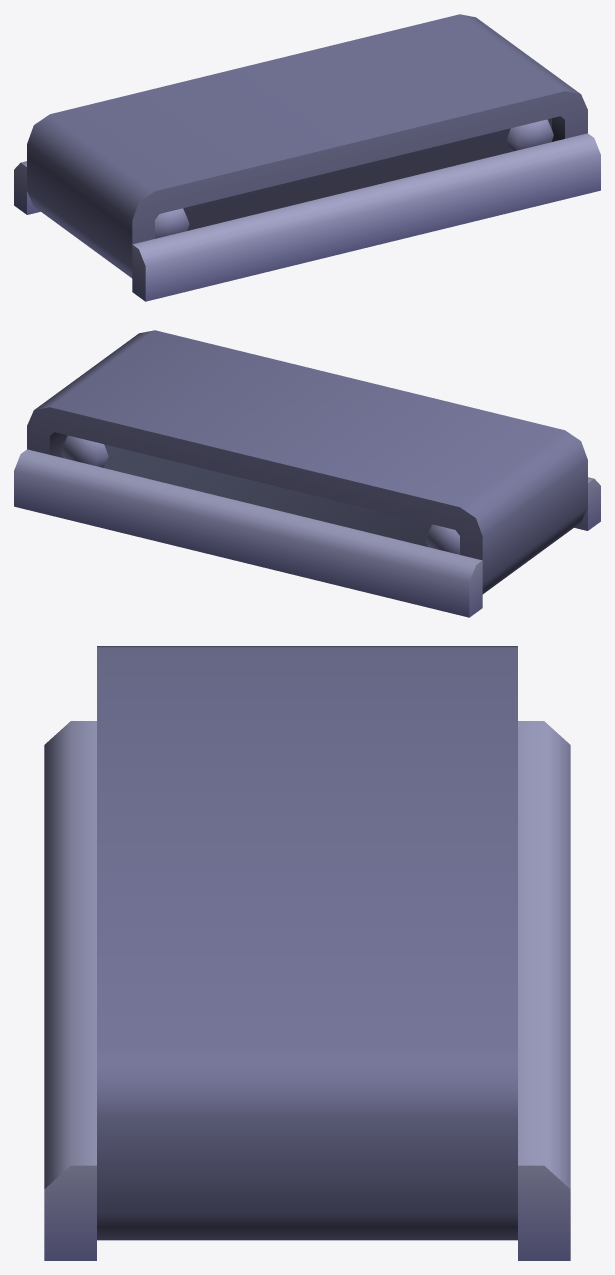
Rendered from kenney-factory-conveyor-long-sides.glb.
3 renders of one model, top to bottom at view 1: azimuth 30°, elevation 25°; view 2: azimuth 150°, elevation 25°; view 3: azimuth 270°, elevation 25°, orthographic. The views are drawn at different scales.
Parts seen in each view (by area): view 1: conveyor-long-sides; view 2: conveyor-long-sides; view 3: conveyor-long-sides.
Boxes of the visible parts, x1,y1,x2,y2 form: conveyor-long-sides: [14, 14, 600, 301]; conveyor-long-sides: [14, 330, 600, 617]; conveyor-long-sides: [44, 646, 570, 1260].
Size of the model in its own units: 2 by 0.3999 by 1.
1 material, 1 textured.
